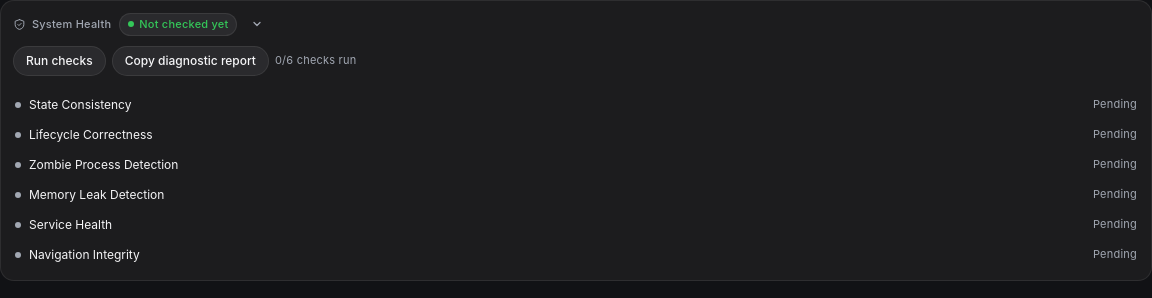
Scenario: SystemIntegrityPanel › lists every check and runs them on demand
Expected: the text "State Consistency" is shown, [29,96,132,112]
Expected: the text "Lifecycle Correctness" is shown, [29,126,153,142]
Click the button "Run checks" at (59, 60), box [13,46,106,76]
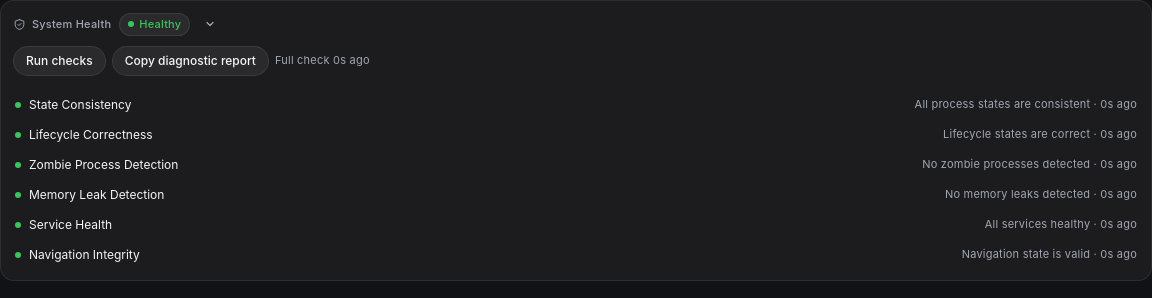
Result: the text "Pending" is not shown
